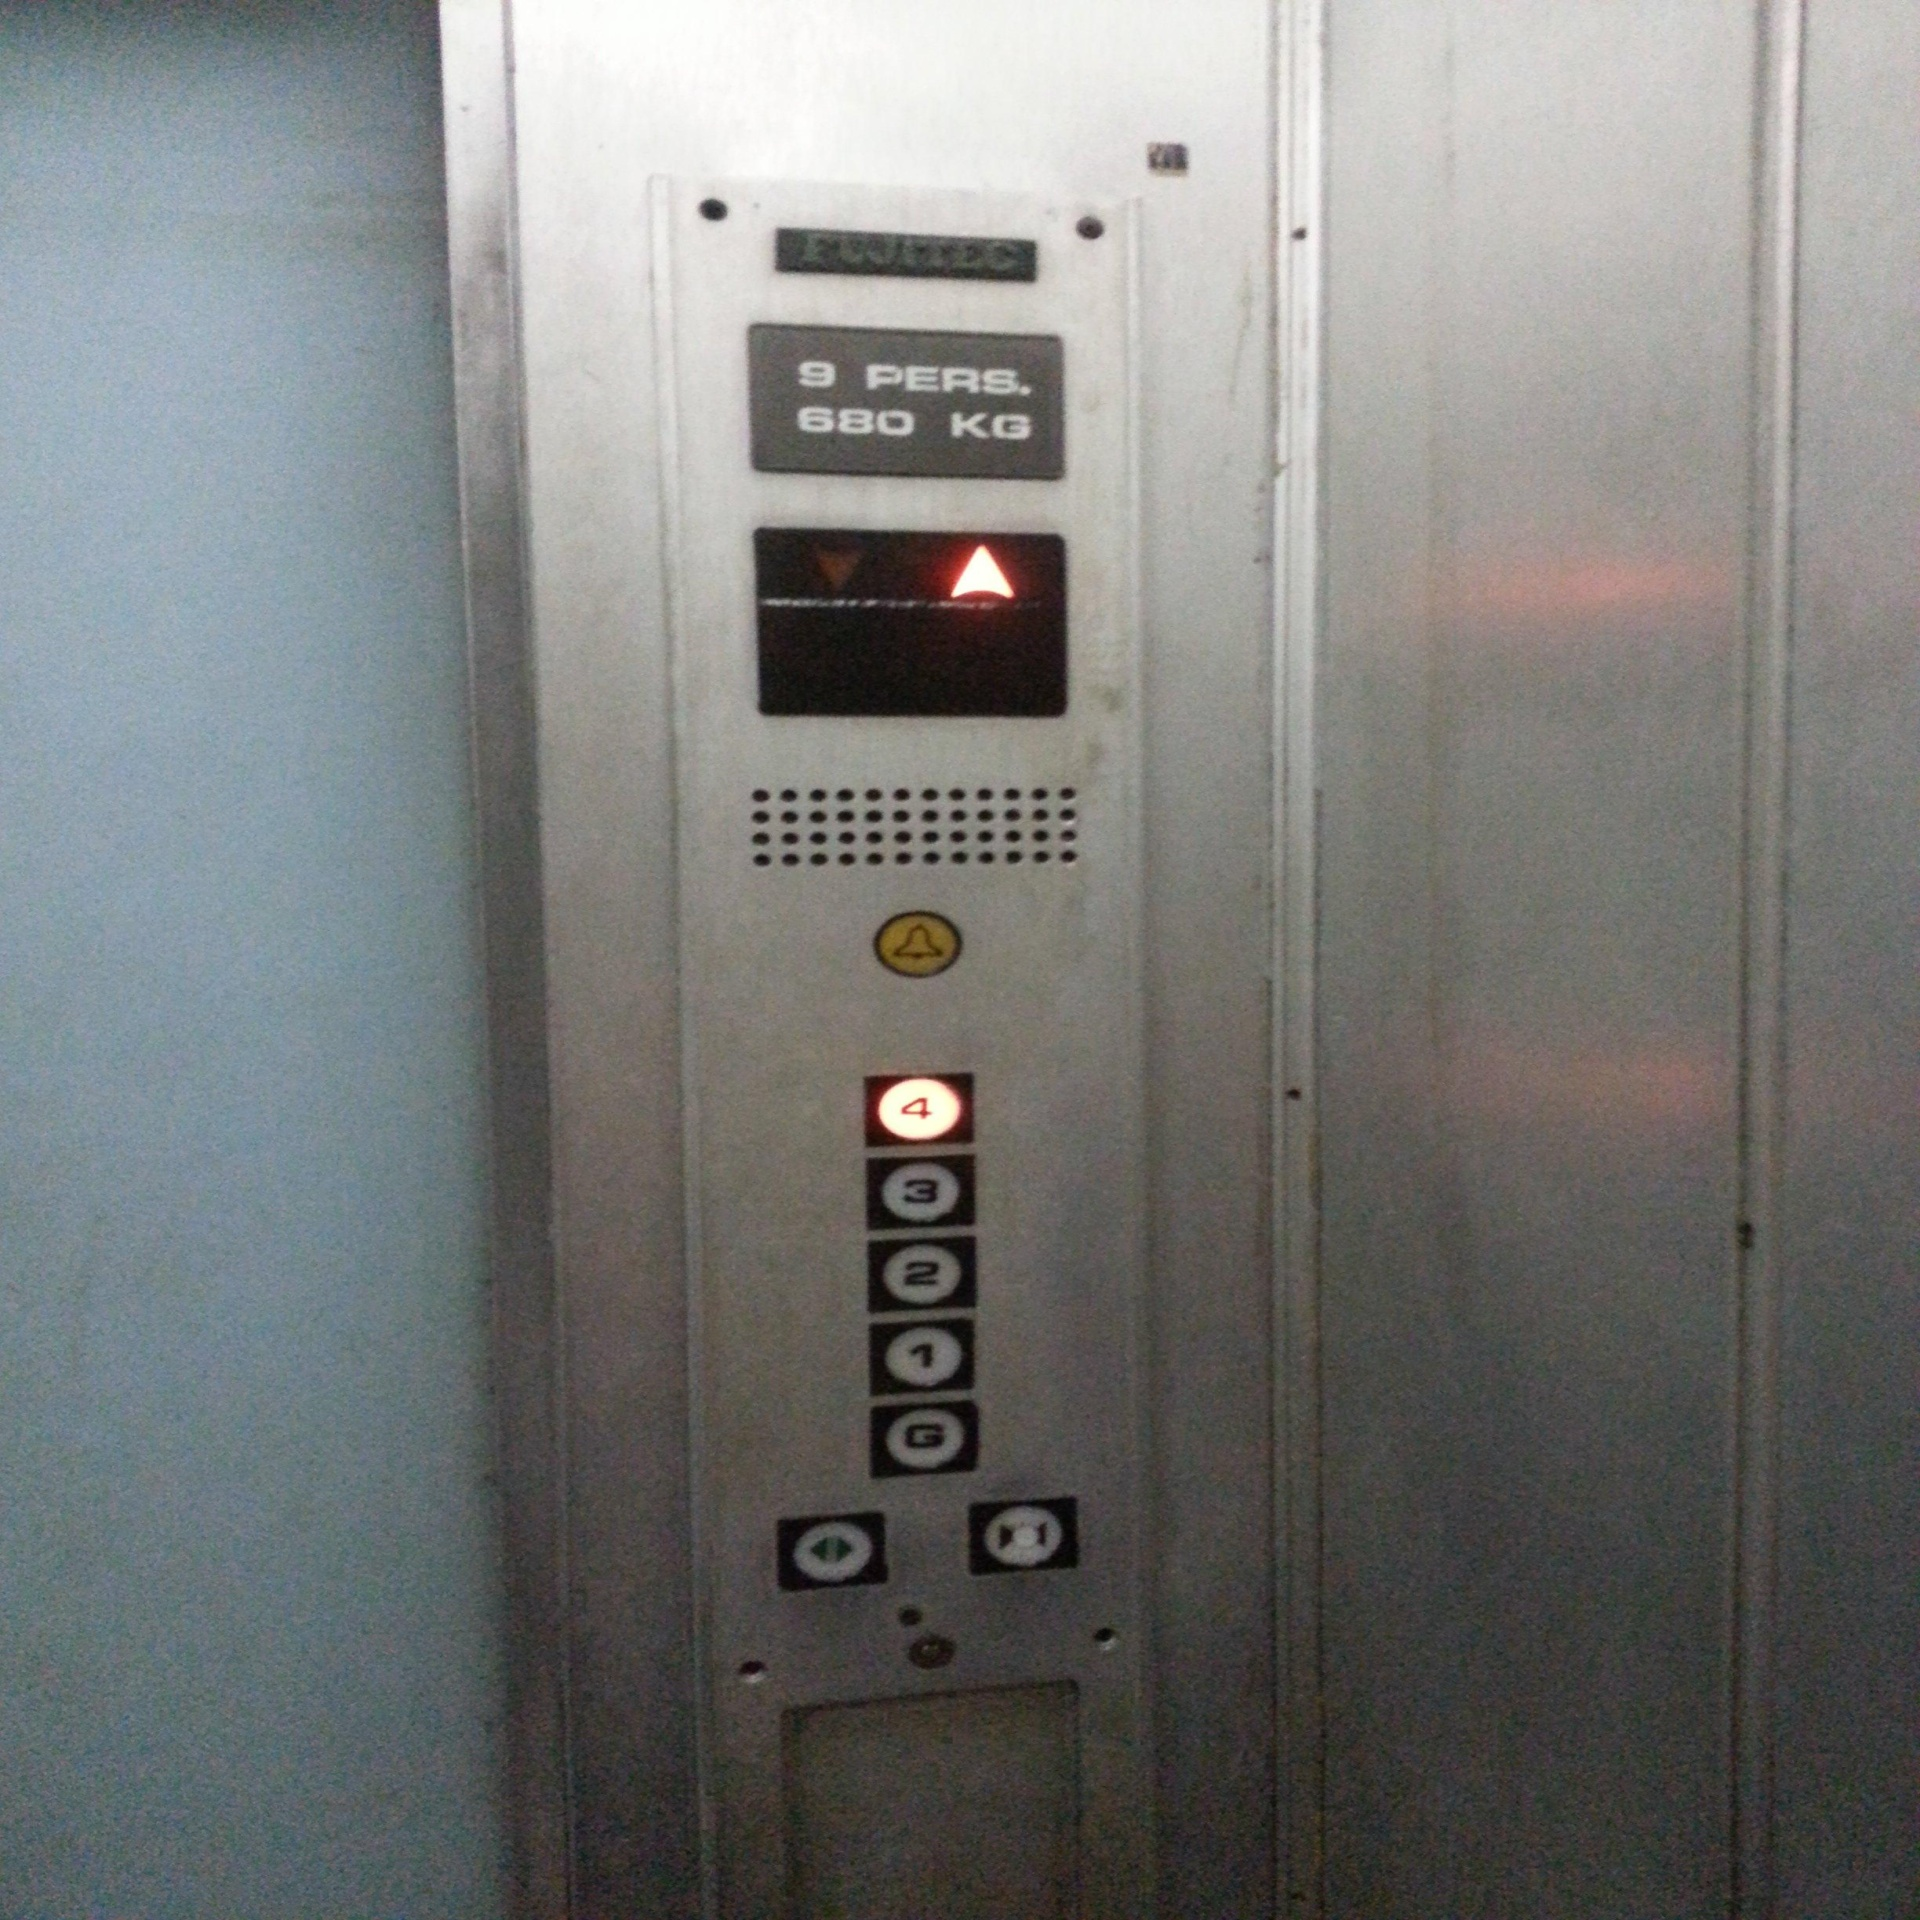1: (867, 1312, 979, 1400)
2: (863, 1234, 981, 1315)
3: (862, 1152, 979, 1229)
4: (862, 1071, 978, 1146)
G: (865, 1400, 983, 1477)
alarm: (876, 907, 965, 985)
close: (965, 1489, 1080, 1581)
led: (747, 522, 1071, 723)
open: (772, 1510, 893, 1596)
